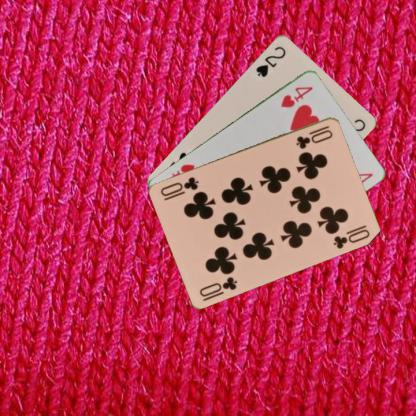10c: (293, 123, 334, 150), (197, 273, 239, 298)
2s: (253, 43, 287, 78)
4h: (278, 83, 314, 109)
